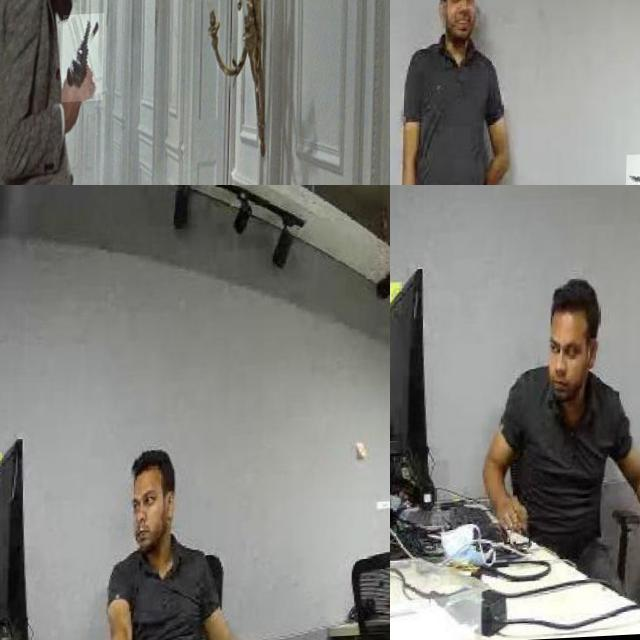gun-knife-thesis - v11 Yolov5 augmented: (62, 16, 106, 105)
